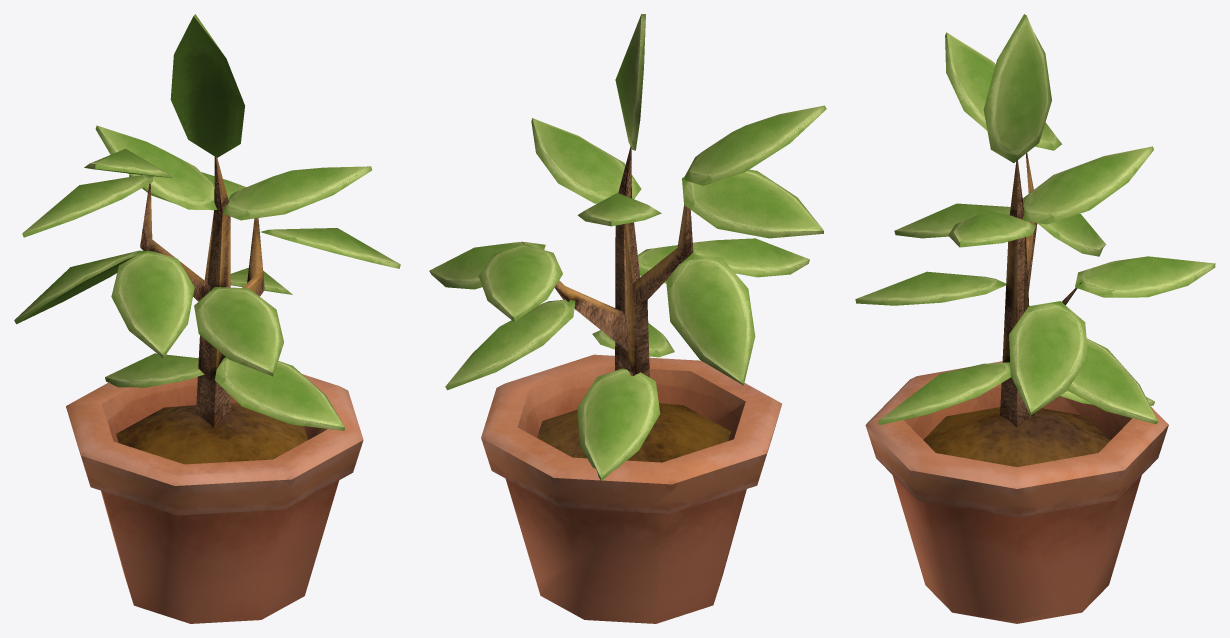
Rendered from plante1_shatter.fbx.
3 renders of one model, left to right at view 1: azimuth 30°, elevation 25°; view 2: azimuth 150°, elevation 25°; view 3: azimuth 270°, elevation 25°, orthographic. The views are drawn at different scales.
Parts seen in each view (by area): view 1: plante, Pieces_3, Pieces_1, Pieces_2_1, Pieces_2; view 2: plante, Pieces_3, Pieces_2_1, Pieces_1, Pieces_2; view 3: plante, Pieces_1, Pieces_2_1, Pieces_3, Pieces_2.
Part boxes in pixels (<box>): plante: <box>14,14,400,464</box>; Pieces_3: <box>67,412,314,623</box>; Pieces_1: <box>265,384,363,560</box>; Pieces_2_1: <box>66,374,333,442</box>; Pieces_2: <box>184,451,287,515</box>; plante: <box>429,14,826,480</box>; Pieces_3: <box>536,389,781,623</box>; Pieces_2_1: <box>481,386,711,581</box>; Pieces_1: <box>495,354,705,429</box>; Pieces_2: <box>666,363,754,422</box>; plante: <box>855,14,1215,467</box>; Pieces_1: <box>865,416,1057,619</box>; Pieces_2_1: <box>1015,397,1168,603</box>; Pieces_3: <box>893,361,1127,623</box>; Pieces_2: <box>872,385,932,439</box>.
Size of the model in its own units: 37.47 by 53.25 by 30.88.
3 materials, 2 textured.
